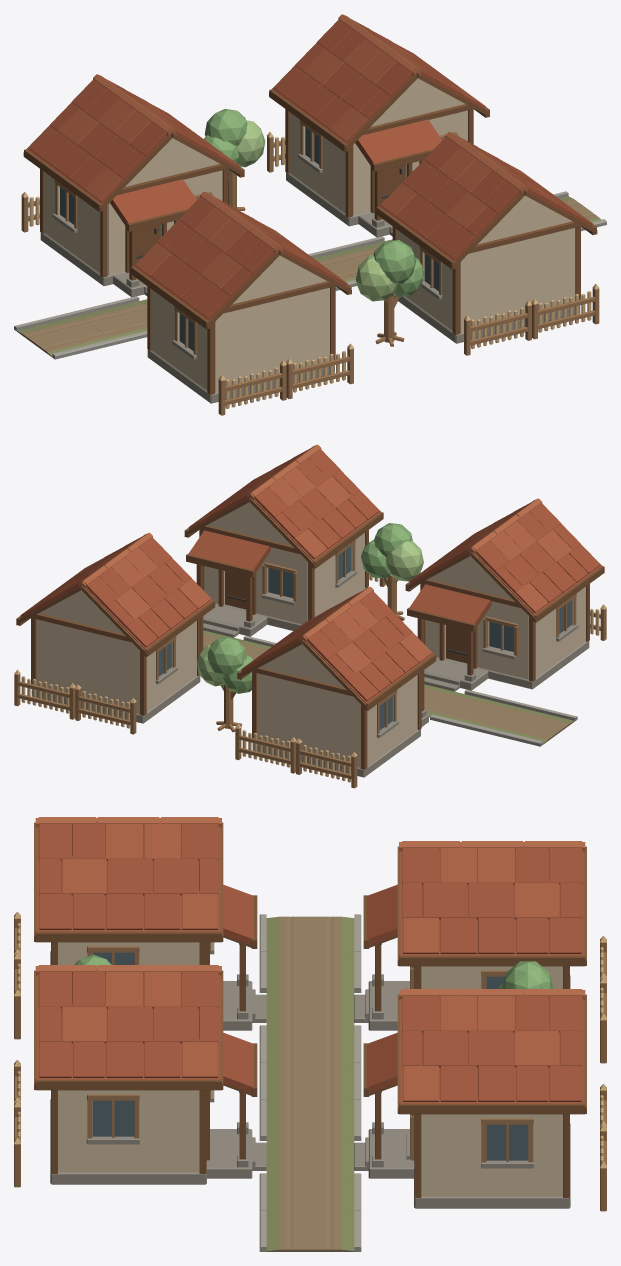
The picture shows the model from 3 angles, top to bottom: view 1: azimuth 30°, elevation 25°; view 2: azimuth 150°, elevation 25°; view 3: azimuth 270°, elevation 25°; orthographic projection. The views are drawn at different scales.
Parts seen in each view (by area): view 1: village-cottage-01__02__House wall shell, village-cottage-01__03__House wall shell, village-cottage-01__00__House wall shell, village-cottage-01__01__House wall shell, village-cottage-01__01__Porch roof, village-cottage-01__00__Porch roof, village-soil-road-straight-2m-01__00__Continuous earth su, village-cottage-01__01__House gable, village-cottage-01__02__House gable.001, village-cottage-01__03__House gable.001, village-cottage-01__00__House gable, village-soil-road-straight-2m-01__01__Continuous earth su (+76 smaller); view 2: village-cottage-01__00__House wall shell, village-cottage-01__01__House wall shell, village-cottage-01__02__House wall shell, village-cottage-01__03__House wall shell, village-cottage-01__02__House stone foundation, village-cottage-01__02__Porch roof, village-cottage-01__03__Porch roof, village-cottage-01__03__House stone foundation, village-soil-road-straight-2m-01__00__Continuous earth su, village-soil-road-straight-2m-01__01__Continuous earth su, village-cottage-01__00__House gable.001, village-cottage-01__01__House gable.001 (+67 smaller); view 3: village-cottage-01__01__House wall shell, village-cottage-01__03__House wall shell, village-cottage-01__03__House stone foundation, village-cottage-01__01__House stone foundation, village-soil-road-straight-2m-01__08__Continuous earth su, village-soil-road-straight-2m-01__00__Continuous earth su, village-soil-road-straight-2m-01__01__Continuous earth su, village-soil-road-straight-2m-01__02__Continuous earth su, village-soil-road-straight-2m-01__03__Continuous earth su, village-soil-road-straight-2m-01__04__Continuous earth su, village-soil-road-straight-2m-01__05__Continuous earth su, village-soil-road-straight-2m-01__06__Continuous earth su (+84 smaller).
Boxes of the visible parts, x1,y1,x2,y2 form: village-cottage-01__02__House wall shell: (151, 287, 329, 392); village-cottage-01__03__House wall shell: (397, 228, 575, 332); village-cottage-01__00__House wall shell: (44, 170, 222, 275); village-cottage-01__01__House wall shell: (289, 110, 467, 215); village-cottage-01__01__Porch roof: (356, 119, 442, 165); village-cottage-01__00__Porch roof: (111, 179, 196, 225); village-soil-road-straight-2m-01__00__Continuous earth su: (17, 316, 110, 356); village-cottage-01__01__House gable: (371, 78, 464, 126); village-cottage-01__02__House gable.001: (232, 255, 326, 304); village-cottage-01__03__House gable.001: (477, 195, 571, 244); village-cottage-01__00__House gable: (125, 138, 219, 186); village-soil-road-straight-2m-01__01__Continuous earth su: (78, 301, 147, 339); village-cottage-01__00__House wall shell: (257, 673, 417, 767); village-cottage-01__01__House wall shell: (36, 619, 196, 713); village-cottage-01__02__House wall shell: (425, 587, 585, 679); village-cottage-01__03__House wall shell: (204, 533, 364, 624); village-cottage-01__02__House stone foundation: (424, 641, 589, 691); village-cottage-01__02__Porch roof: (409, 584, 491, 626); village-cottage-01__03__Porch roof: (188, 530, 270, 572); village-cottage-01__03__House stone foundation: (203, 587, 367, 637); village-soil-road-straight-2m-01__00__Continuous earth su: (490, 707, 574, 744); village-soil-road-straight-2m-01__01__Continuous earth su: (435, 694, 519, 728); village-cottage-01__00__House gable.001: (260, 644, 344, 687); village-cottage-01__01__House gable.001: (39, 590, 123, 634); village-cottage-01__01__House wall shell: (421, 1114, 562, 1196); village-cottage-01__03__House wall shell: (58, 1090, 199, 1172); village-cottage-01__03__House stone foundation: (50, 1099, 266, 1184); village-cottage-01__01__House stone foundation: (354, 1123, 570, 1208); village-soil-road-straight-2m-01__08__Continuous earth su: (266, 1212, 354, 1251); village-soil-road-straight-2m-01__00__Continuous earth su: (266, 916, 354, 954); village-soil-road-straight-2m-01__01__Continuous earth su: (266, 953, 354, 991); village-soil-road-straight-2m-01__02__Continuous earth su: (266, 990, 354, 1028); village-soil-road-straight-2m-01__03__Continuous earth su: (266, 1027, 354, 1065); village-soil-road-straight-2m-01__04__Continuous earth su: (266, 1064, 354, 1102); village-soil-road-straight-2m-01__05__Continuous earth su: (266, 1101, 354, 1139); village-soil-road-straight-2m-01__06__Continuous earth su: (266, 1138, 354, 1176).
Bounding box in the file's own units: 18.02 × 4.6 × 13.56.
